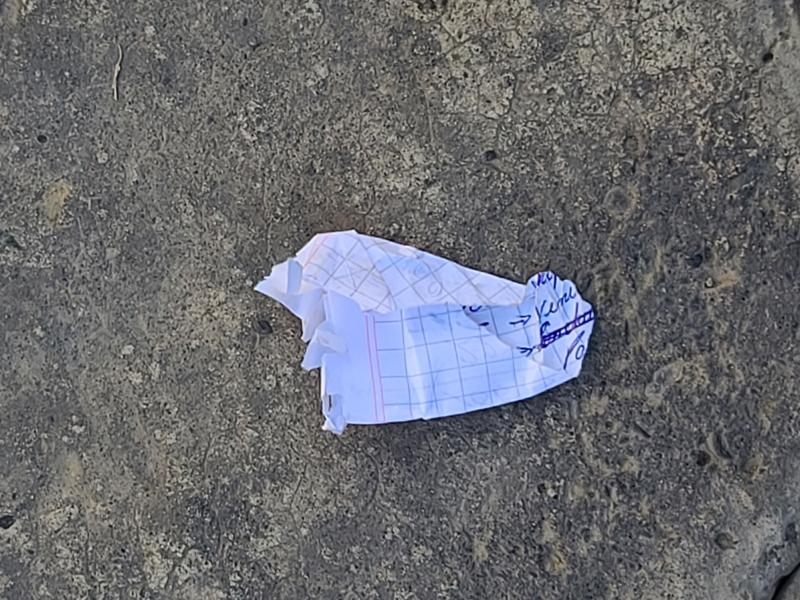papel: (253, 231, 597, 436)
